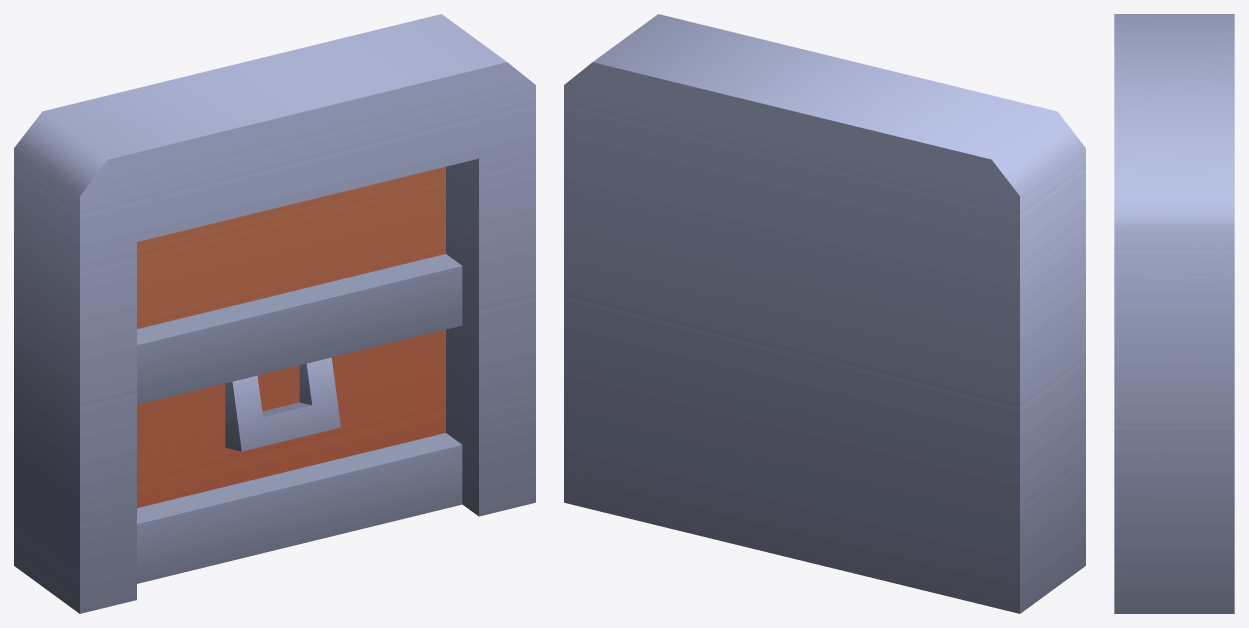
Rendered from gate_1.glb.
The picture shows the model from 3 angles, left to right: view 1: azimuth 30°, elevation 25°; view 2: azimuth 150°, elevation 25°; view 3: azimuth 270°, elevation 25°; orthographic projection. The views are drawn at different scales.
Parts seen in each view (by area): view 1: door; view 2: door; view 3: door.
Boxes of the visible parts, x1=… form: door: x1=14, y1=14, x2=535, y2=613; door: x1=564, y1=14, x2=1085, y2=613; door: x1=1114, y1=14, x2=1234, y2=613.
Size of the model in its own units: 0.8 by 0.75 by 0.2.
1 material, 1 textured.
